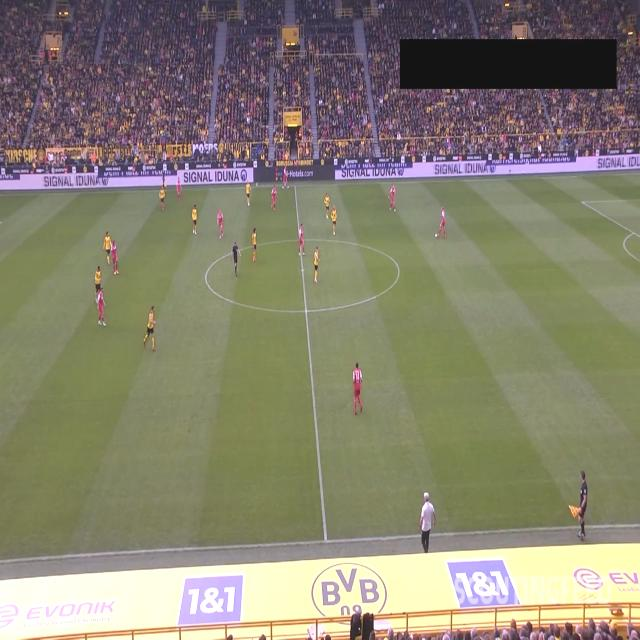f_player: (94, 264, 106, 326), (144, 305, 159, 351), (102, 232, 119, 272), (353, 364, 365, 416), (323, 195, 337, 238), (435, 206, 447, 238), (329, 204, 340, 238), (311, 247, 321, 284), (250, 228, 258, 263), (388, 185, 398, 212), (298, 223, 306, 254), (192, 206, 200, 236), (218, 212, 226, 240), (270, 186, 278, 212), (244, 184, 252, 208), (160, 184, 166, 210), (176, 178, 183, 200), (284, 165, 290, 189)
umpire: (569, 473, 591, 542), (231, 242, 241, 276), (162, 170, 168, 188)
